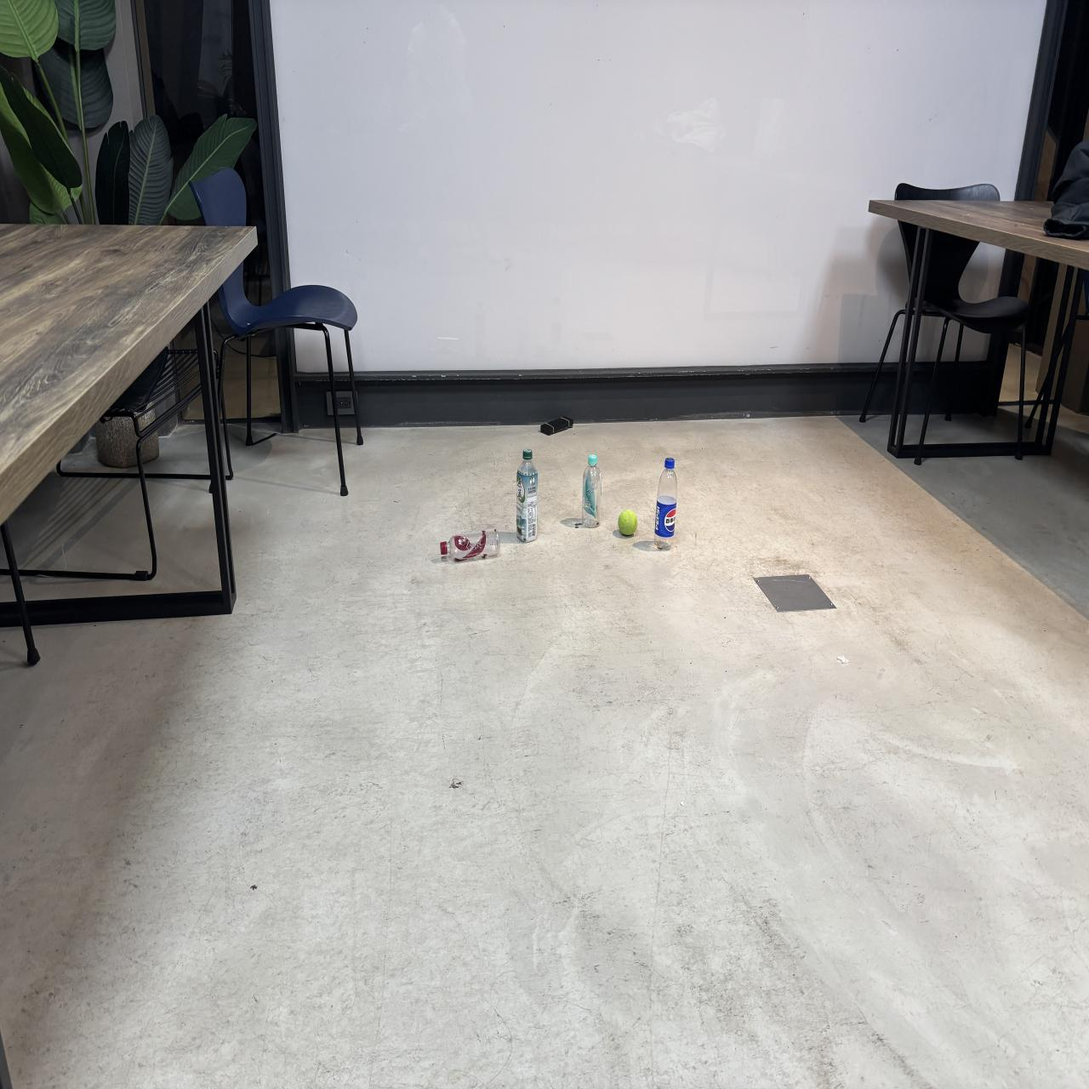plastic-bottle: (654, 452, 681, 552), (517, 450, 538, 544), (583, 454, 601, 527)
tennisball: (619, 510, 637, 535)
